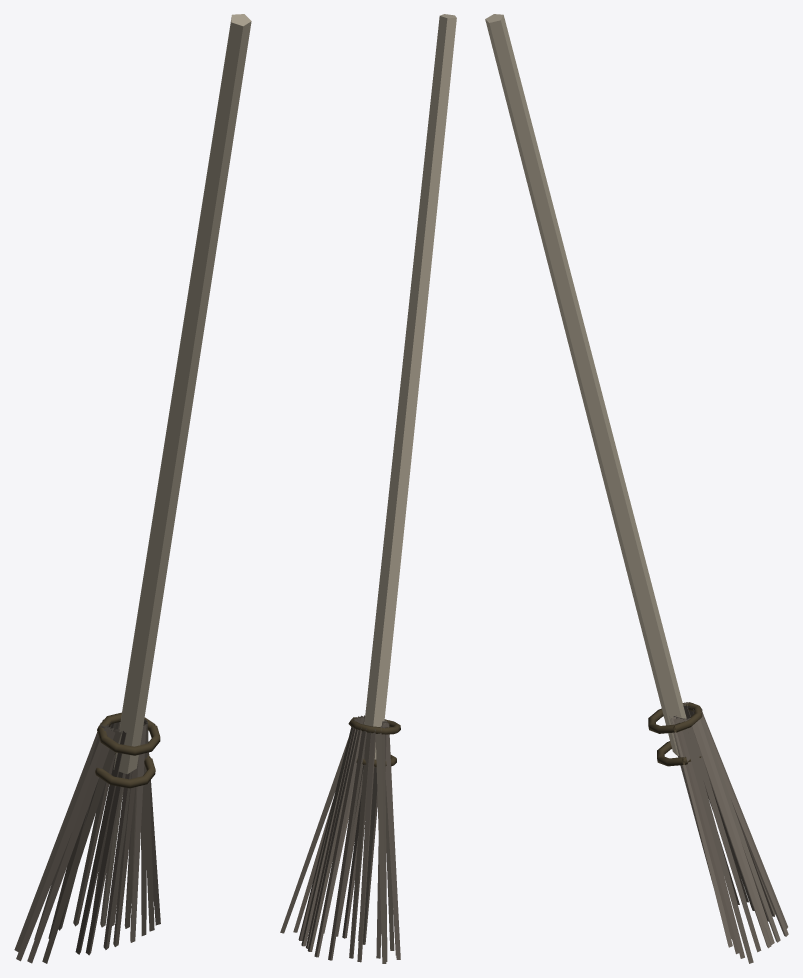
The model's file is prop_inn_broom.glb.
3 renders of one model, left to right at view 1: azimuth 30°, elevation 25°; view 2: azimuth 150°, elevation 25°; view 3: azimuth 270°, elevation 25°, orthographic. The views are drawn at different scales.
Parts seen in each view (by area): view 1: InnBroom, InnBroomSoft; view 2: InnBroom, InnBroomSoft; view 3: InnBroom, InnBroomSoft.
Part boxes in pixels (left/top/right/bottom): InnBroom: left=14, top=14, right=251, bottom=963; InnBroomSoft: left=95, top=712, right=160, bottom=788; InnBroom: left=280, top=14, right=456, bottom=963; InnBroomSoft: left=348, top=717, right=400, bottom=767; InnBroom: left=485, top=14, right=788, bottom=963; InnBroomSoft: left=648, top=702, right=702, bottom=766.
Size of the model in its own units: 0.2105 by 1.42 by 0.4241.
